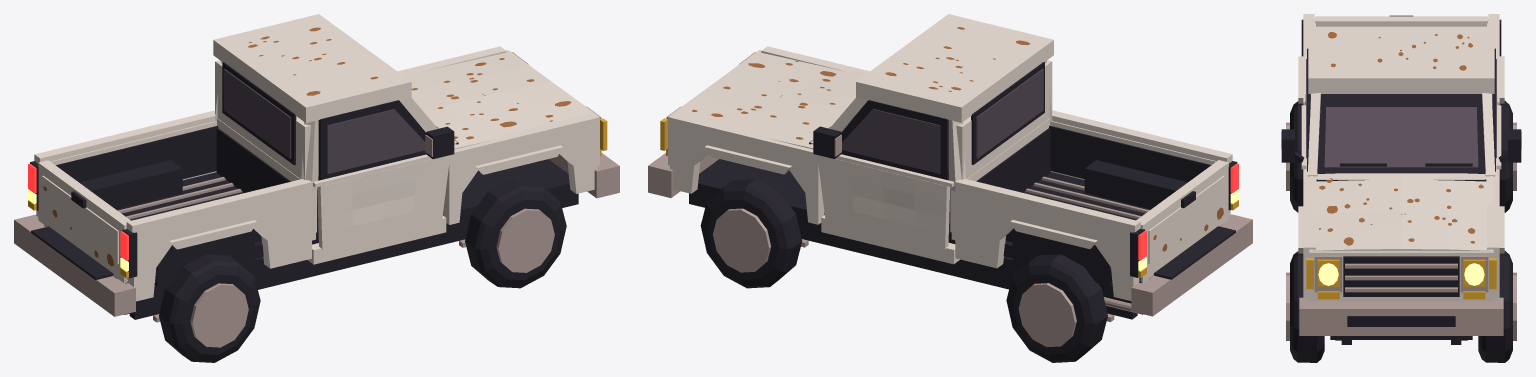
3 views of the same model, side by side, from view 1: azimuth 30°, elevation 25°; view 2: azimuth 150°, elevation 25°; view 3: azimuth 270°, elevation 25° (orthographic).
Parts seen in each view (by area): view 1: body_pal_picketWhite, body_pal_uiDark, doorR_pal_picketWhite, body_pal_sidewalk, wheelFR_pal_uiDark, wheelRR_pal_uiDark, tailgate_pal_picketWhite, doorR_pal_asphalt, body_pal_asphalt, wheelRR_pal_sidewalk, wheelFR_pal_sidewalk, doorR_pal_uiDark (+1 smaller); view 2: body_pal_picketWhite, body_pal_uiDark, doorL_pal_picketWhite, body_pal_sidewalk, wheelFL_pal_uiDark, wheelRL_pal_uiDark, tailgate_pal_picketWhite, doorL_pal_asphalt, body_pal_asphalt, wheelFL_pal_sidewalk, wheelRL_pal_sidewalk, doorL_pal_uiDark (+1 smaller); view 3: body_pal_picketWhite, body_pal_uiDark, body_pal_sidewalk, body_pal_asphalt, tailgate_pal_picketWhite, wheelFL_pal_uiDark, wheelFR_pal_uiDark, wheelRL_pal_uiDark, wheelRR_pal_uiDark, lightsFront_pal_schoolBusYellow, body_pal_woodWarm, doorL_pal_uiDark (+9 smaller).
Boxes of the visible parts, left/top/right/bottom form: body_pal_picketWhite: left=34, top=14, right=599, bottom=301; body_pal_uiDark: left=30, top=62, right=578, bottom=319; doorR_pal_picketWhite: left=313, top=154, right=450, bottom=249; body_pal_sidewalk: left=14, top=53, right=619, bottom=322; wheelFR_pal_uiDark: left=465, top=178, right=566, bottom=288; wheelRR_pal_uiDark: left=159, top=254, right=260, bottom=362; tailgate_pal_picketWhite: left=38, top=160, right=130, bottom=283; doorR_pal_asphalt: left=327, top=109, right=425, bottom=174; body_pal_asphalt: left=223, top=69, right=291, bottom=158; wheelRR_pal_sidewalk: left=190, top=283, right=248, bottom=347; wheelFR_pal_sidewalk: left=496, top=208, right=554, bottom=272; doorR_pal_uiDark: left=318, top=100, right=454, bottom=180; body_pal_picketWhite: left=668, top=14, right=1232, bottom=300; body_pal_uiDark: left=689, top=62, right=1237, bottom=319; doorL_pal_picketWhite: left=817, top=154, right=954, bottom=249; body_pal_sidewalk: left=648, top=53, right=1252, bottom=321; wheelFL_pal_uiDark: left=700, top=179, right=802, bottom=288; wheelRL_pal_uiDark: left=1006, top=254, right=1107, bottom=362; tailgate_pal_picketWhite: left=1136, top=160, right=1228, bottom=282; doorL_pal_asphalt: left=842, top=109, right=940, bottom=173; body_pal_asphalt: left=976, top=69, right=1043, bottom=158; wheelFL_pal_sidewalk: left=713, top=208, right=771, bottom=272; wheelRL_pal_sidewalk: left=1018, top=283, right=1076, bottom=347; doorL_pal_uiDark: left=813, top=100, right=948, bottom=180; body_pal_picketWhite: left=1298, top=14, right=1504, bottom=301; body_pal_uiDark: left=1301, top=19, right=1501, bottom=344; body_pal_sidewalk: left=1299, top=255, right=1503, bottom=340; body_pal_asphalt: left=1324, top=107, right=1478, bottom=167; tailgate_pal_picketWhite: left=1315, top=16, right=1487, bottom=26; wheelFL_pal_uiDark: left=1478, top=251, right=1512, bottom=362; wheelFR_pal_uiDark: left=1290, top=251, right=1324, bottom=362; wheelRL_pal_uiDark: left=1499, top=101, right=1512, bottom=212; wheelRR_pal_uiDark: left=1290, top=101, right=1303, bottom=212; lightsFront_pal_schoolBusYellow: left=1306, top=258, right=1496, bottom=299; body_pal_woodWarm: left=1319, top=32, right=1483, bottom=245; doorL_pal_uiDark: left=1492, top=48, right=1521, bottom=171.
Size of the model in its own units: 4.4 by 1.9 by 1.8.
